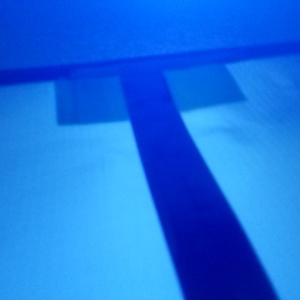bottom_left: (55, 62, 165, 125)
bottom_right: (127, 57, 246, 111)
